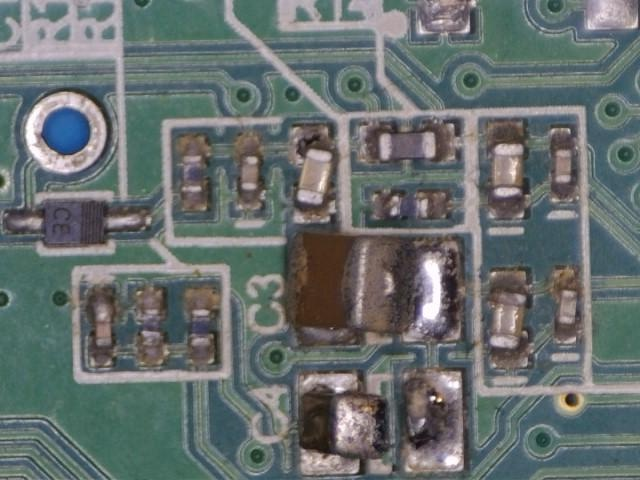pcb_defect: (283, 231, 465, 350), (296, 368, 466, 477), (289, 122, 336, 225)
